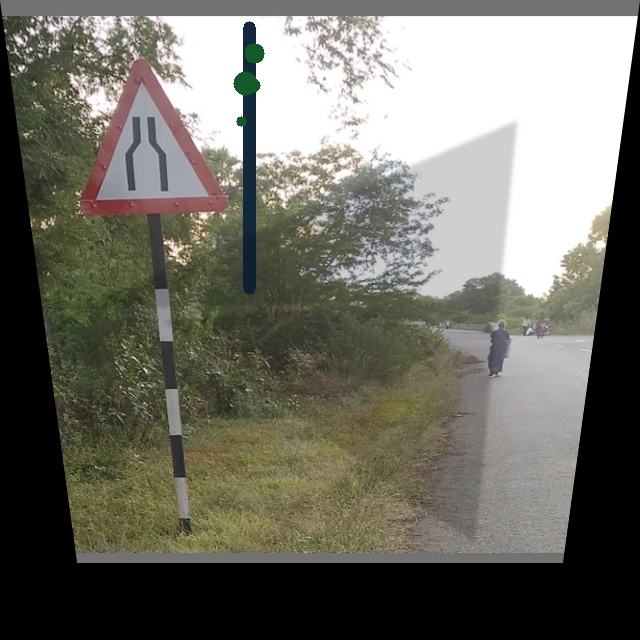Narrow_Road_Ahead: (63, 54, 232, 213)
